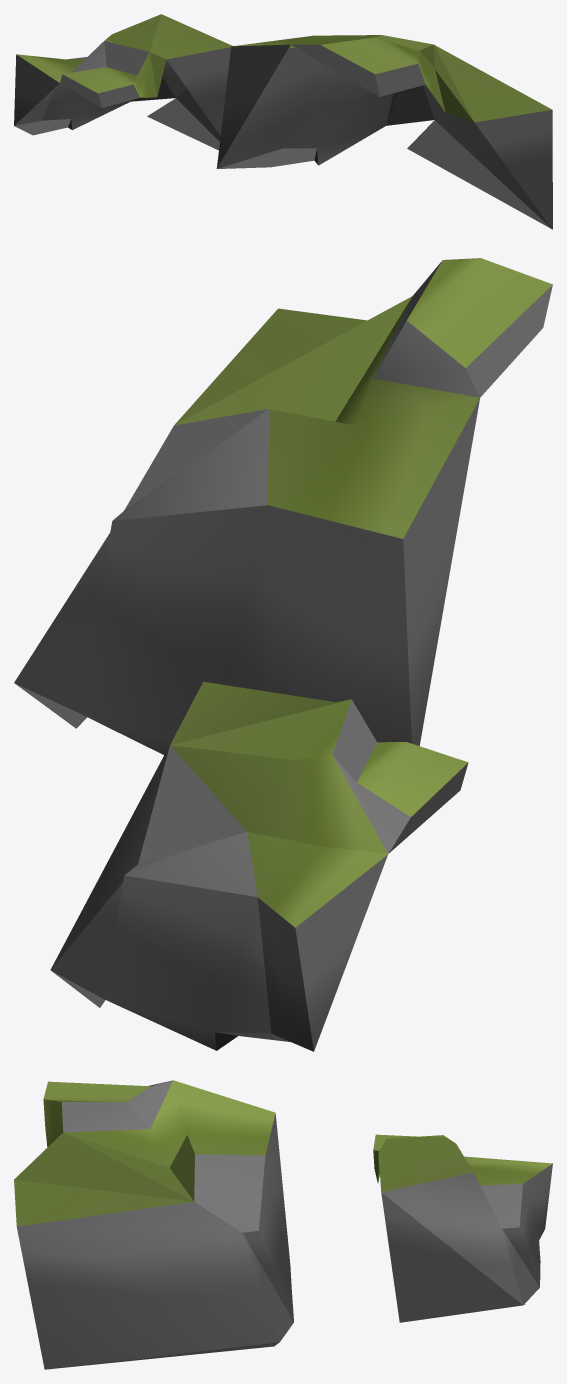
File: RochasDino.glb
3 views of the same model, one above another, from view 1: azimuth 30°, elevation 25°; view 2: azimuth 150°, elevation 25°; view 3: azimuth 270°, elevation 25° (orthographic). The views are drawn at different scales.
Visible parts, largest first — view 1: RochasDino; view 2: RochasDino; view 3: RochasDino.
Boxes of the visible parts, left/top/right/bottom form: RochasDino: left=14, top=14, right=552, bottom=229; RochasDino: left=14, top=258, right=552, bottom=1051; RochasDino: left=14, top=1080, right=552, bottom=1369.
Size of the model in its own units: 8 by 5.84 by 12.45.
1 material, 1 textured.
